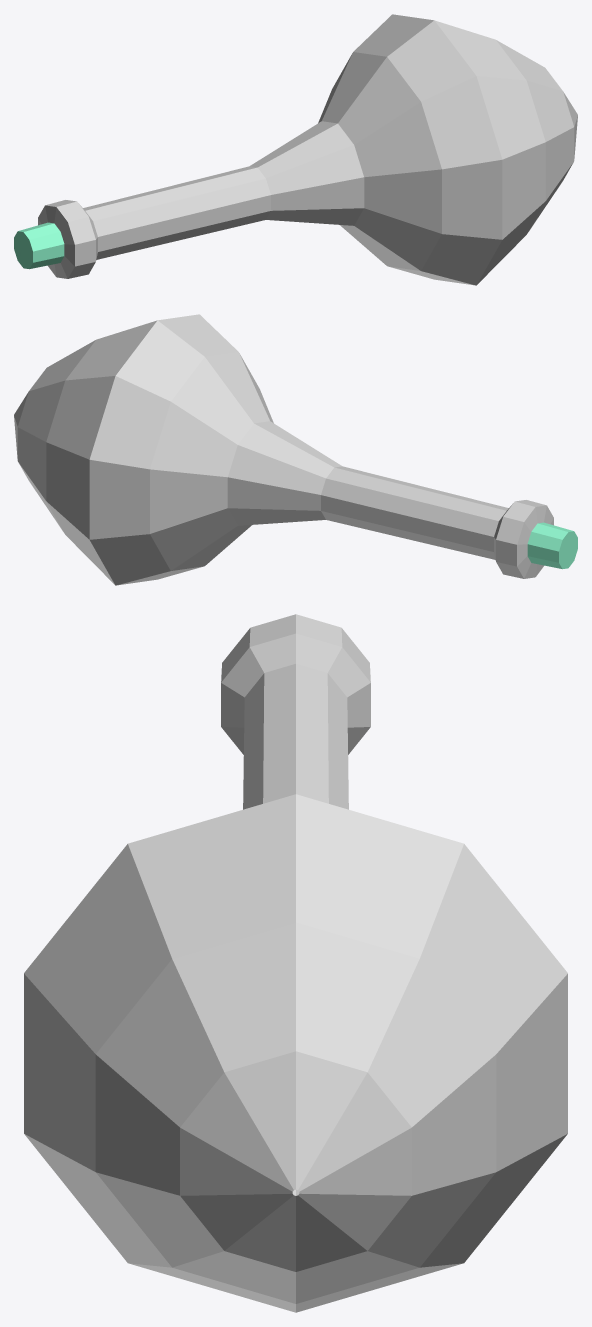
Rendered from CosmicPotion.fbx.
The picture shows the model from 3 angles, top to bottom: view 1: azimuth 30°, elevation 25°; view 2: azimuth 150°, elevation 25°; view 3: azimuth 270°, elevation 25°; orthographic projection. The views are drawn at different scales.
Visible parts, largest first — view 1: cosmic; view 2: cosmic; view 3: cosmic.
Part boxes in pixels (bbox=[...]): cosmic: bbox=[14, 14, 577, 285]; cosmic: bbox=[14, 314, 577, 585]; cosmic: bbox=[24, 614, 567, 1312].
Size of the model in its own units: 420 by 188 by 179.
